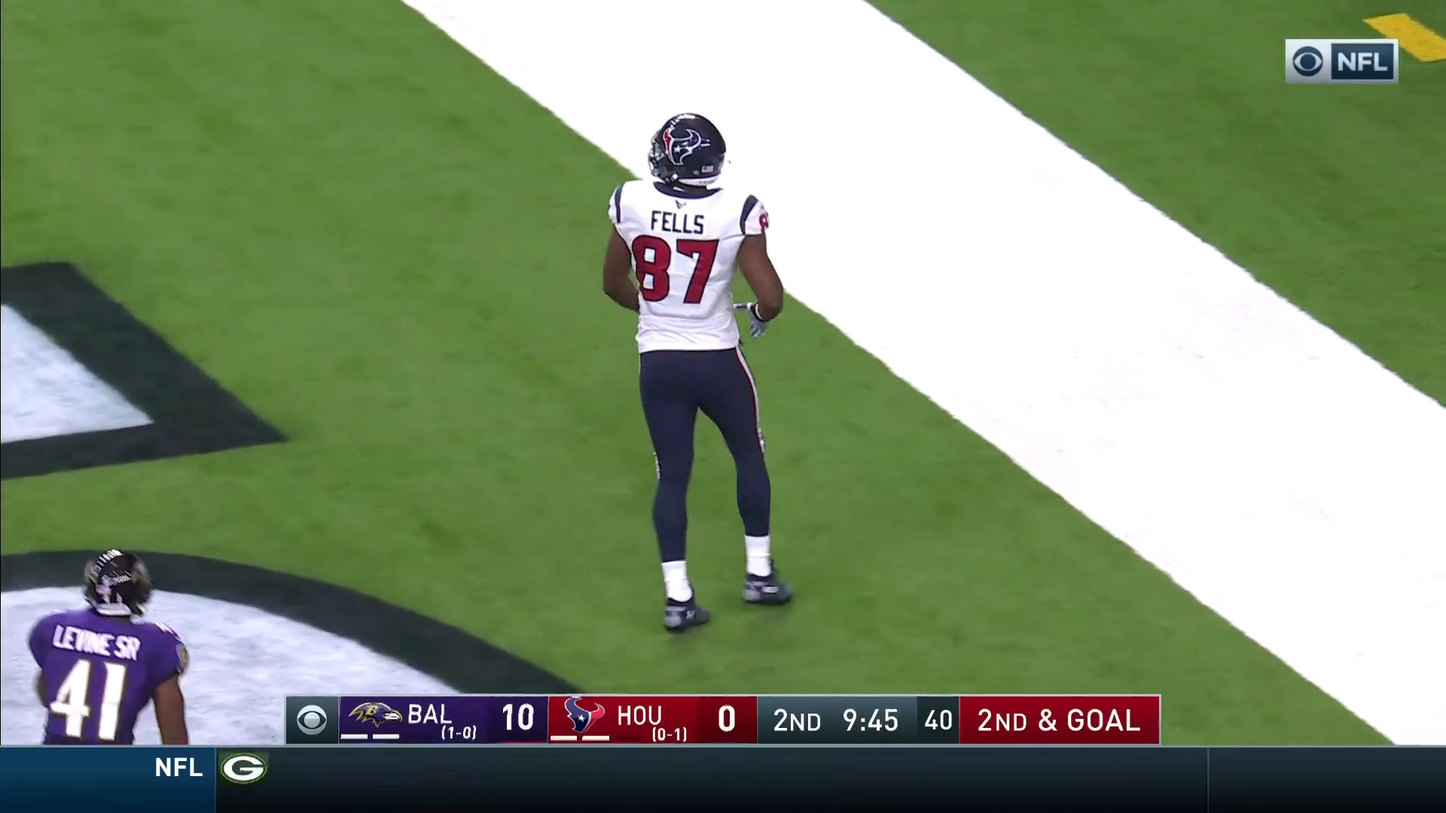Player: (32, 552, 190, 742)
